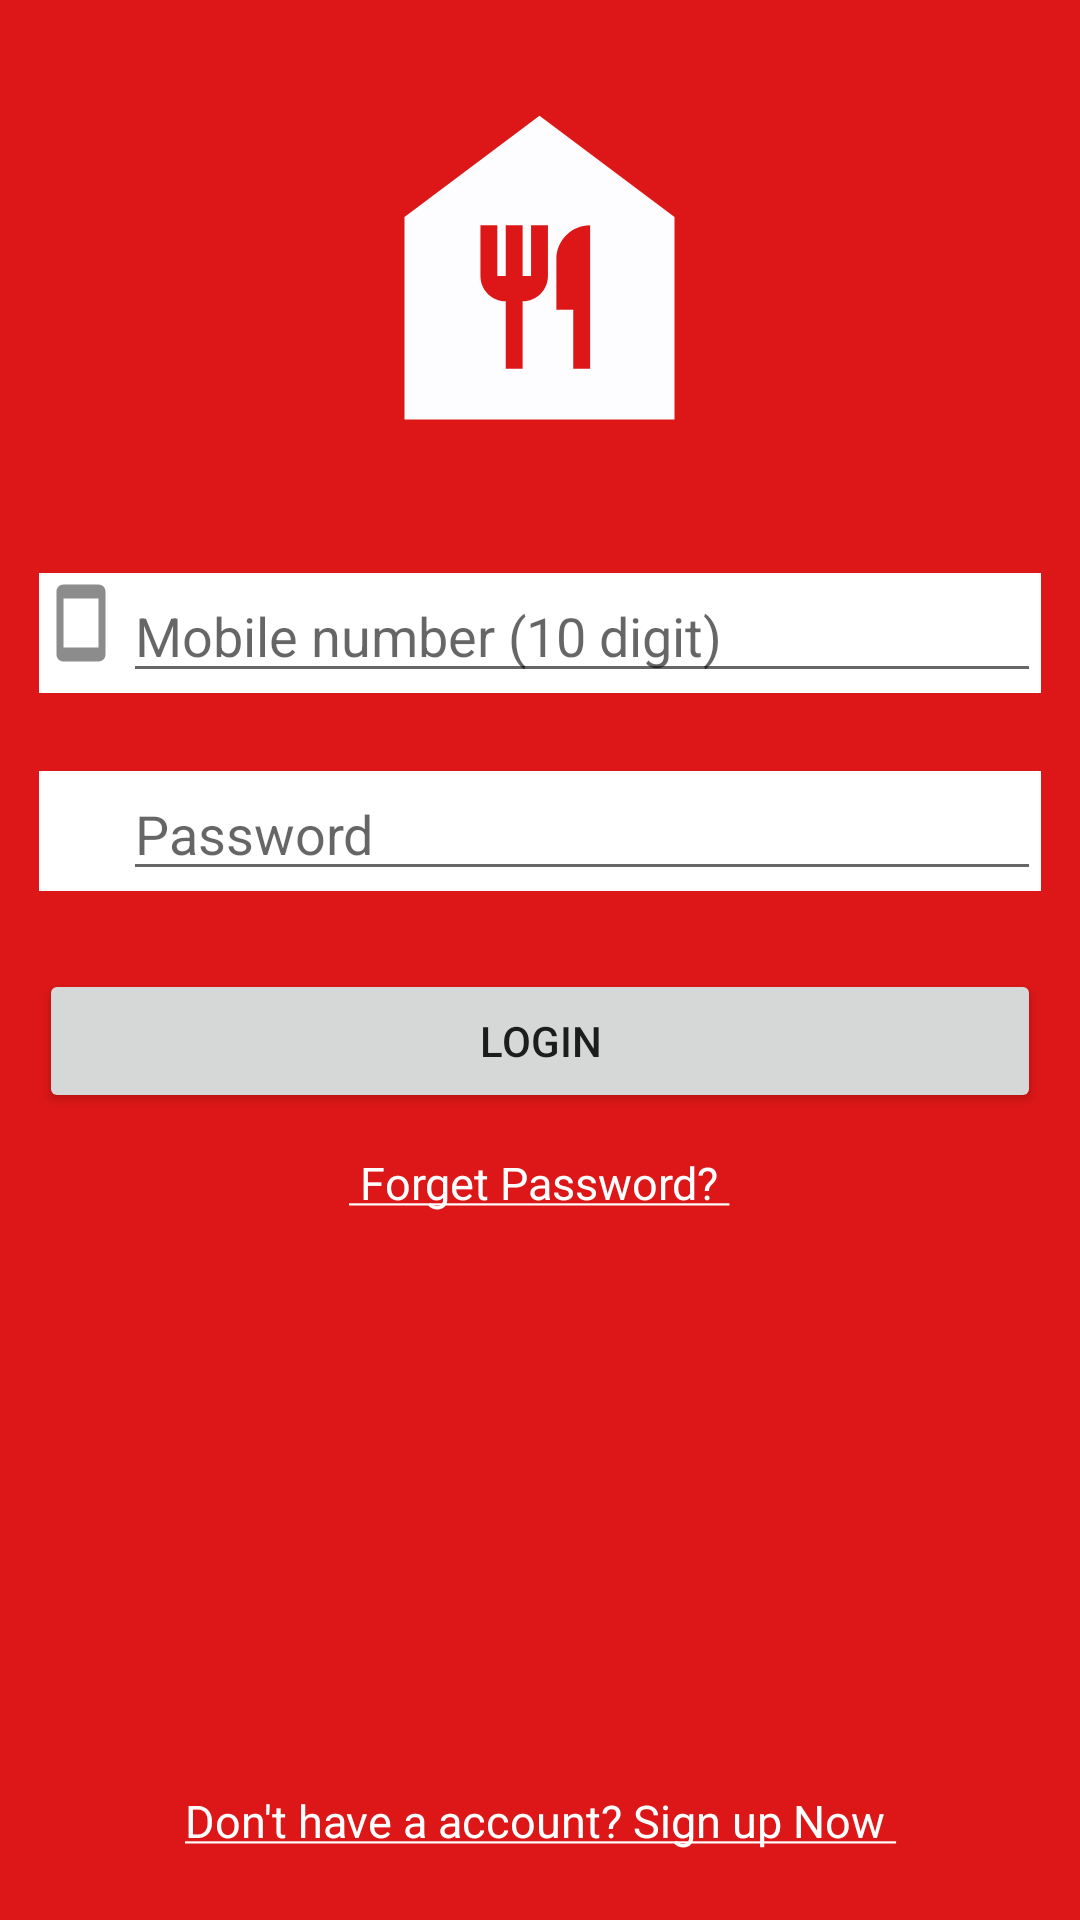

Screen size 1080px×1920px. Icon name, then its center in pixels as (x,y):
foodicon: (539,268)
phone: (81,623)
